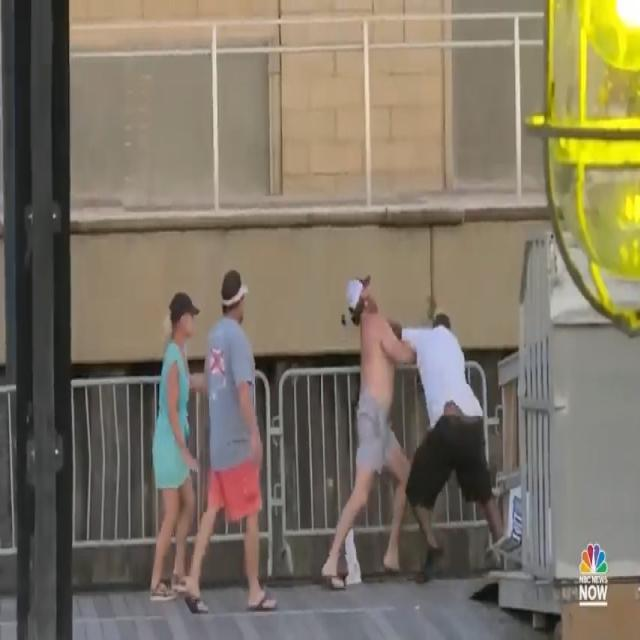fight: (313, 266, 515, 594)
